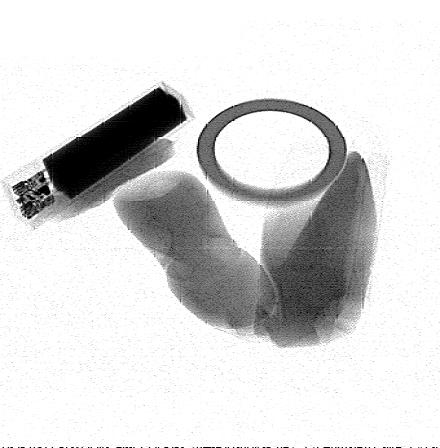Powerbank: (2, 82, 194, 228)
